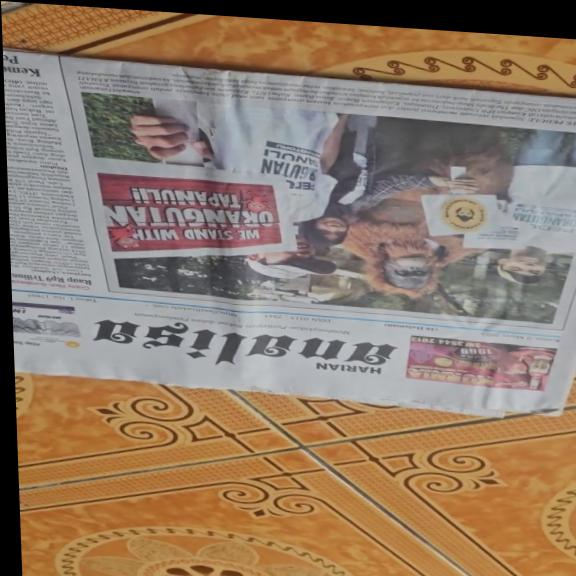Kertas: (10, 53, 557, 415)
